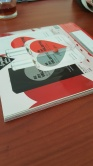Dolorex: (53, 47, 59, 52)
